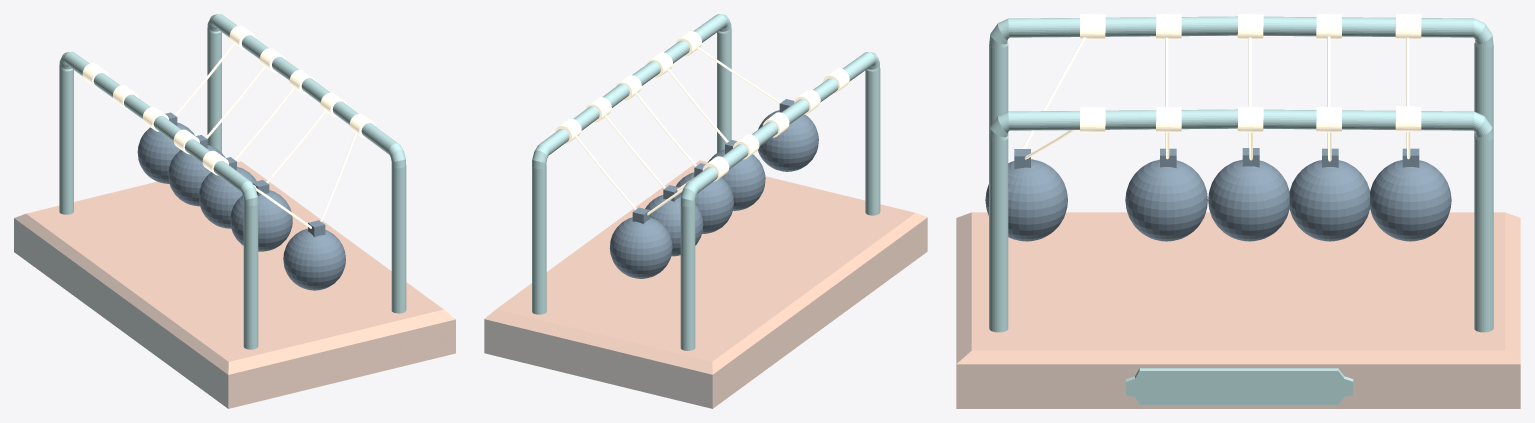
The model's file is Cradle.fbx.
3 views of the same model, side by side, from view 1: azimuth 30°, elevation 25°; view 2: azimuth 150°, elevation 25°; view 3: azimuth 270°, elevation 25° (orthographic). The views are drawn at different scales.
Parts seen in each view (by area): view 1: Cube, Cylinder.001, Cylinder.003, Cylinder.002, Sphere.004, Cylinder, Sphere.003, Sphere.002, Sphere, Sphere.001; view 2: Cube, Cylinder.002, Cylinder, Cylinder.003, Sphere, Cylinder.001, Sphere.004, Sphere.003, Sphere.002, Sphere.001; view 3: Cube, Cube.001, Cylinder.001, Cylinder, Cylinder.003, Sphere.003, Sphere.002, Sphere, Sphere.001, Cylinder.002, Sphere.004, Cylinder.004 (+9 smaller).
Part boxes in pixels (box(x1,y1,x2,y2)): Cube: box(14, 161, 455, 408); Cylinder.001: box(302, 79, 406, 313); Cylinder.003: box(153, 116, 258, 349); Cylinder.002: box(59, 51, 163, 214); Sphere.004: box(283, 228, 345, 290); Cylinder: box(207, 14, 312, 152); Sphere.003: box(230, 190, 292, 251); Sphere.002: box(198, 167, 256, 228); Sphere: box(137, 122, 194, 183); Sphere.001: box(168, 145, 225, 206); Cube: box(484, 160, 927, 408); Cylinder.002: box(680, 121, 778, 350); Cylinder: box(532, 84, 629, 314); Cylinder.003: box(781, 52, 880, 215); Sphere: box(609, 217, 672, 278); Cylinder.001: box(632, 14, 731, 152); Sphere.004: box(758, 110, 818, 171); Sphere.003: box(708, 149, 765, 210); Sphere.002: box(676, 172, 733, 233); Sphere.001: box(645, 195, 703, 256); Cube: box(956, 212, 1520, 408); Cube.001: box(1126, 368, 1353, 404); Cylinder.001: box(989, 109, 1237, 332); Cylinder: box(1235, 109, 1493, 332); Cylinder.003: box(989, 16, 1237, 136); Sphere.003: box(1125, 159, 1207, 241); Sphere.002: box(1208, 159, 1289, 241); Sphere: box(1370, 160, 1451, 241); Sphere.001: box(1289, 160, 1369, 241); Cylinder.002: box(1235, 16, 1493, 136); Sphere.004: box(985, 159, 1067, 241); Cylinder.004: box(1395, 106, 1421, 131).
Size of the model in its own units: 1366 by 852 by 734.
